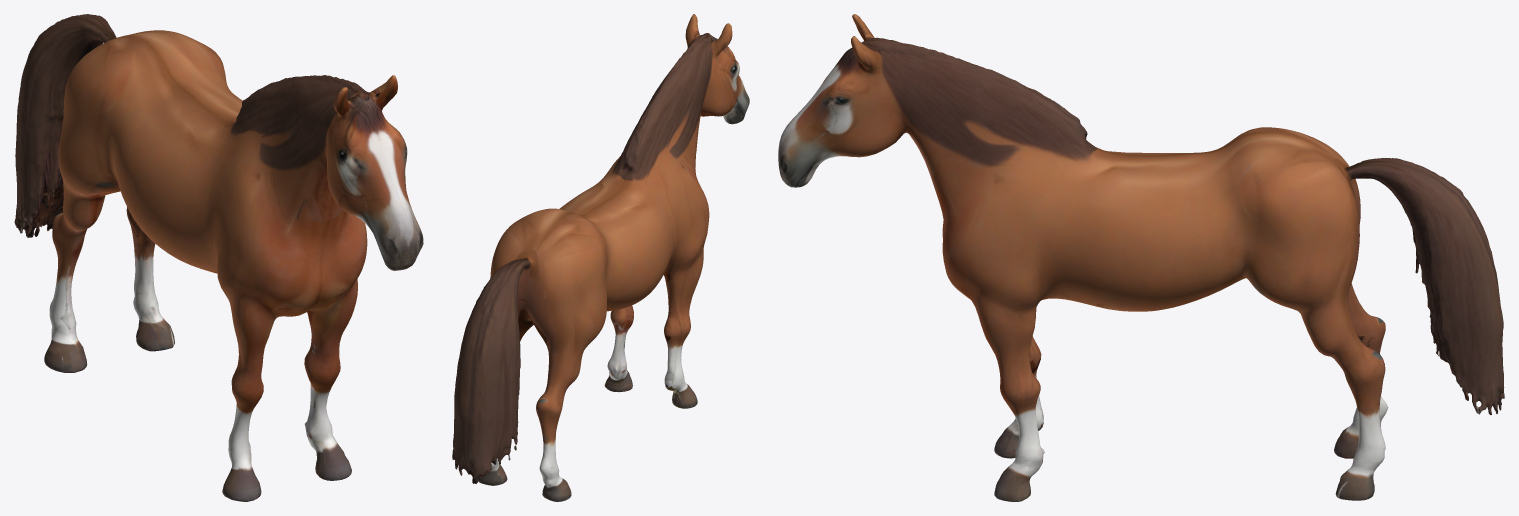
3 renders of one model, left to right at view 1: azimuth 30°, elevation 25°; view 2: azimuth 150°, elevation 25°; view 3: azimuth 270°, elevation 25°, orthographic. The views are drawn at different scales.
Size of the model in its own units: 0.4569 by 1.35 by 1.97.
1 material, 1 textured.
